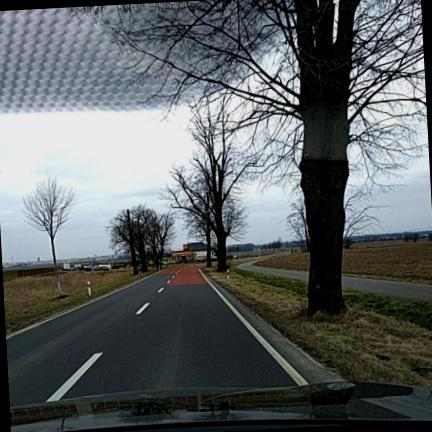Road: (6, 266, 296, 405), (342, 276, 431, 302)
